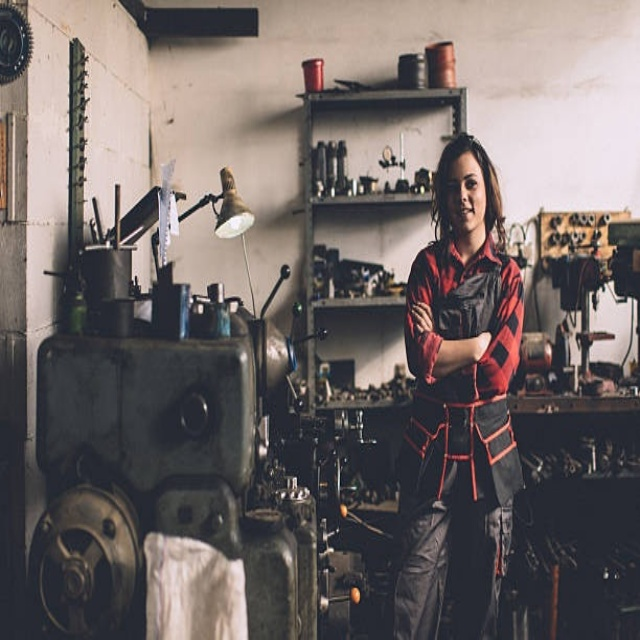Sin_gafas: (444, 166, 480, 195)
Sin_guantes: (410, 296, 436, 336)
Sin_mascara: (452, 202, 480, 232)
